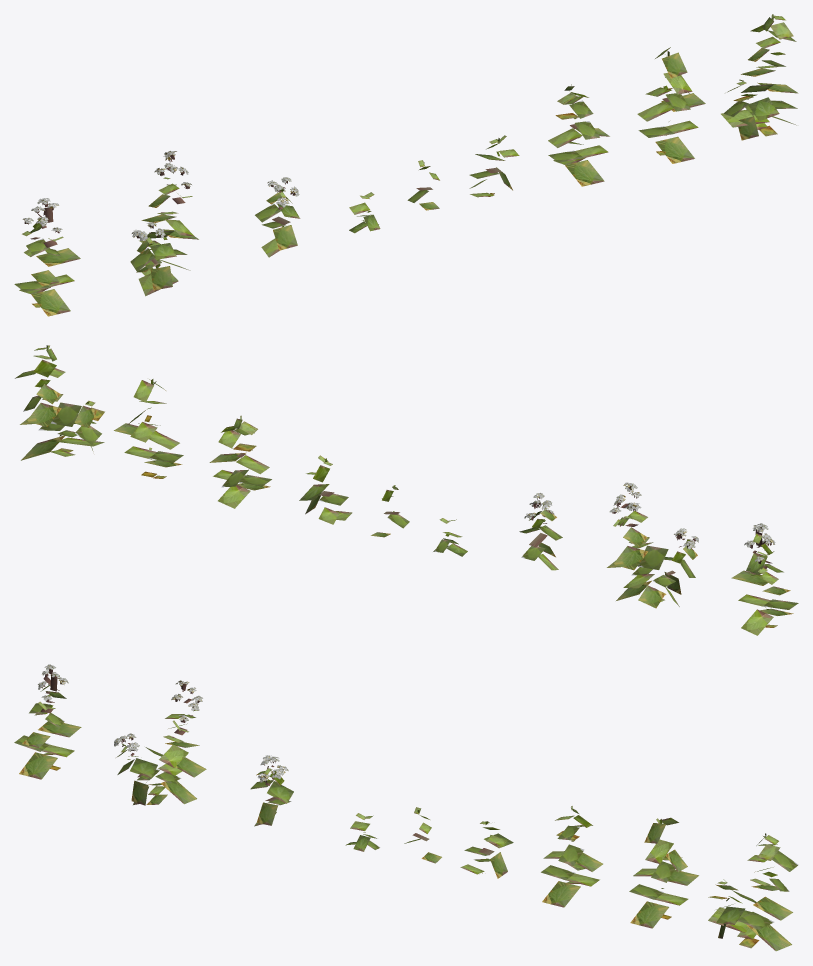
File: shrub_01.glb
The picture shows the model from 3 angles, top to bottom: view 1: azimuth 30°, elevation 25°; view 2: azimuth 150°, elevation 25°; view 3: azimuth 330°, elevation 25°; orthographic projection. The views are drawn at different scales.
Parts seen in each view (by area): view 1: shrub_01_a; view 2: shrub_01_a; view 3: shrub_01_a.
Part boxes in pixels (box(x1,y1,x2,y2)): shrub_01_a: box(14, 14, 798, 316); shrub_01_a: box(14, 345, 798, 635); shrub_01_a: box(14, 664, 798, 951).
Size of the model in its own units: 2.6 by 0.402 by 0.2103.
1 material, 1 textured.
